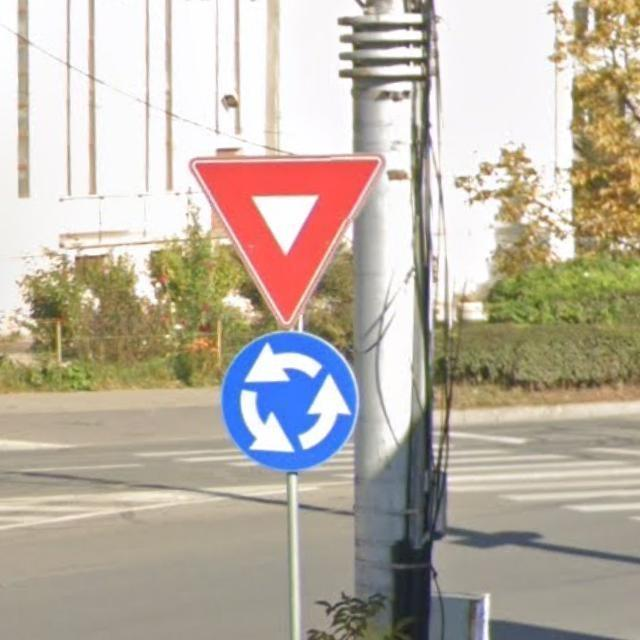prio_give_way: (183, 156, 384, 327)
